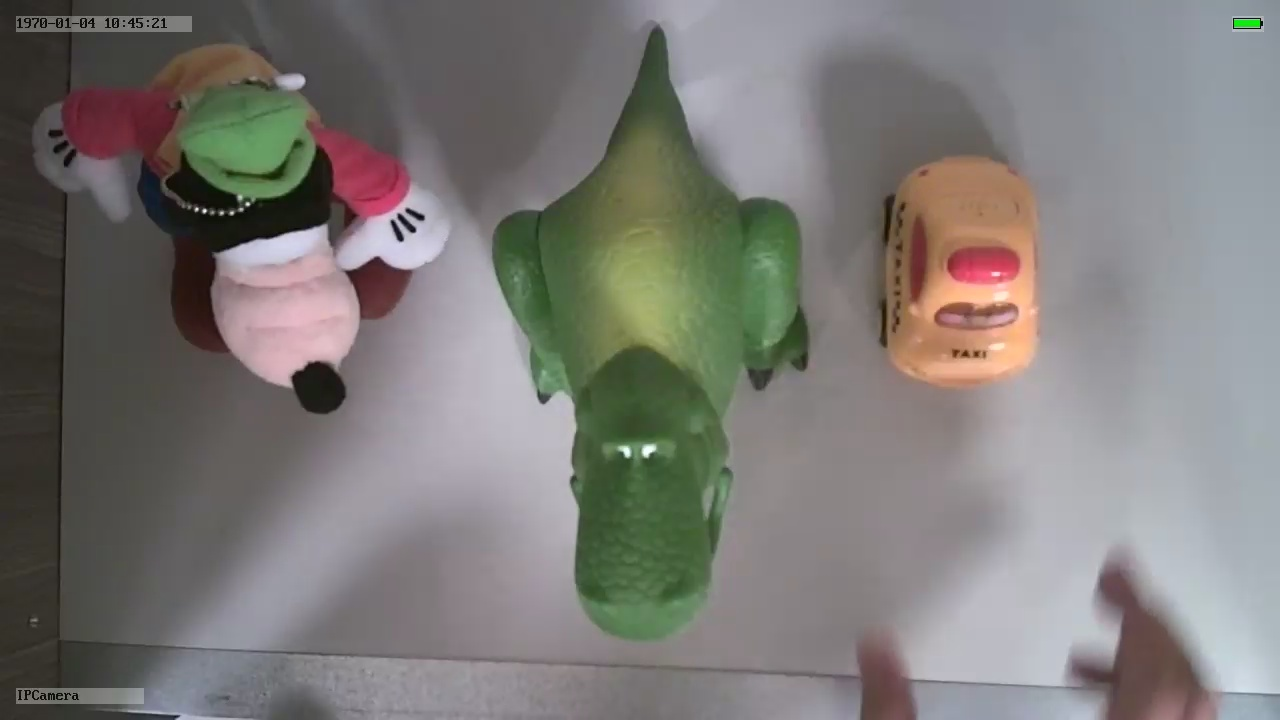car: (871, 146, 1046, 392)
goofy: (30, 41, 452, 412)
rex: (491, 114, 812, 642)
